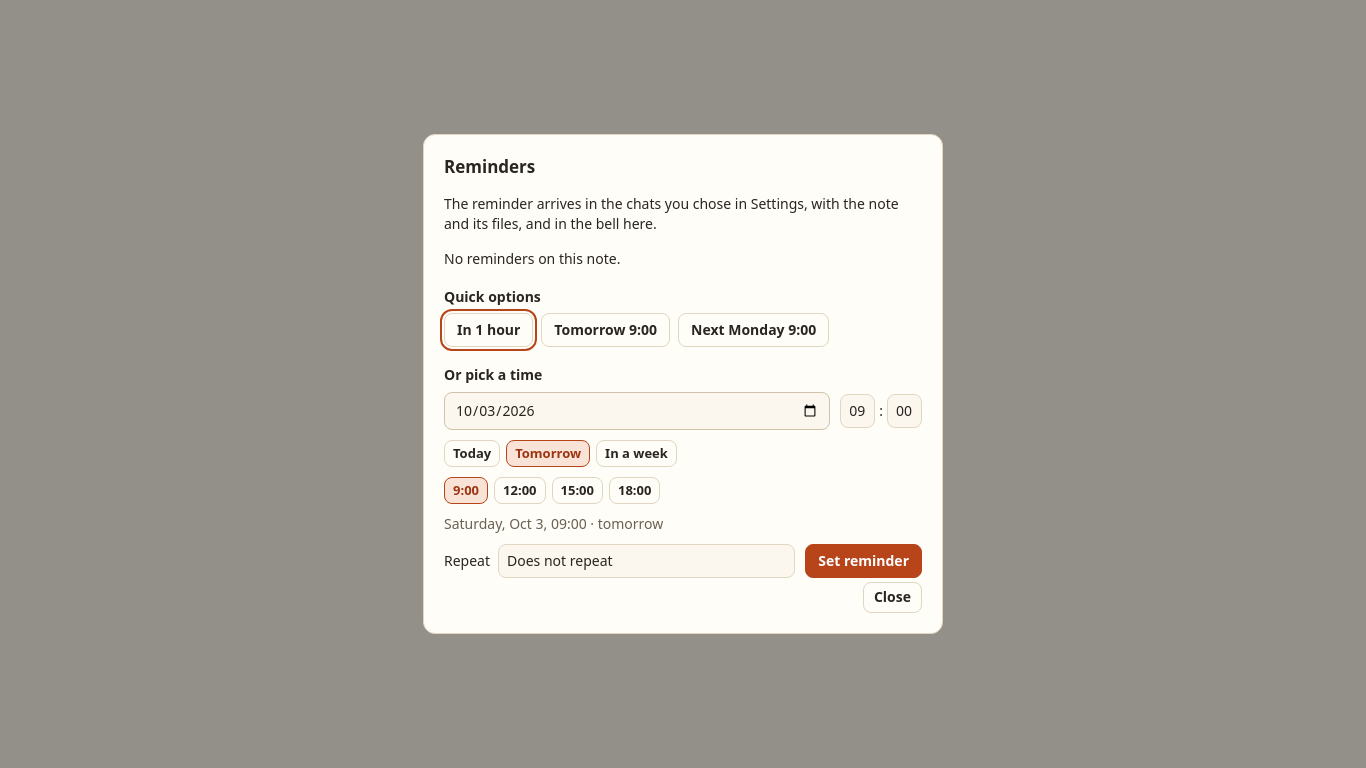
Scenario: ReminderDialog › fills the date and time from the shortcuts and says when the reminder is due
The image size is (1366, 768).
Check: the text "Saturday, Oct 3, 09:00 · tomorrow" is shown, box left=444, top=514, right=663, bottom=533
Step 1. Click the button "In a week" → [636, 454], box left=596, top=440, right=677, bottom=467
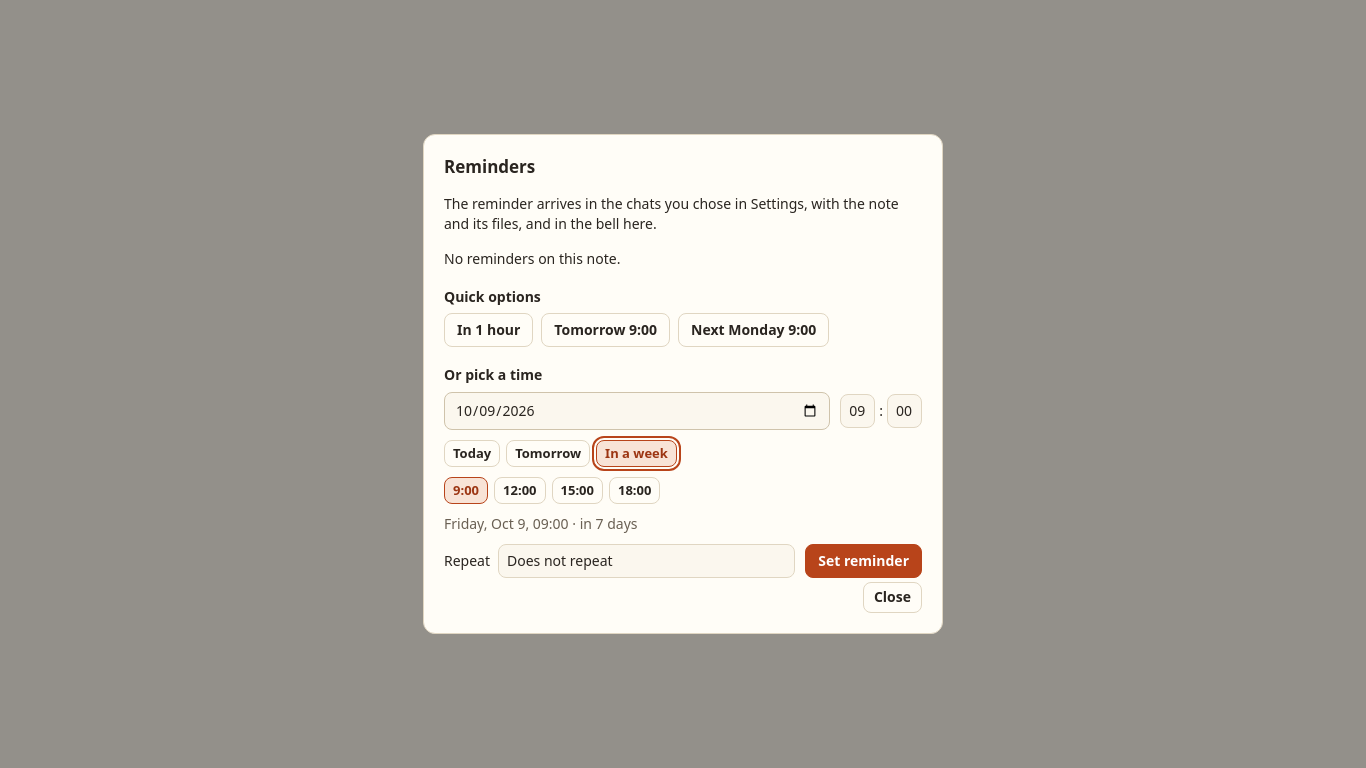
Step 2. Click the button "18:00" → [635, 490], box left=609, top=477, right=660, bottom=504
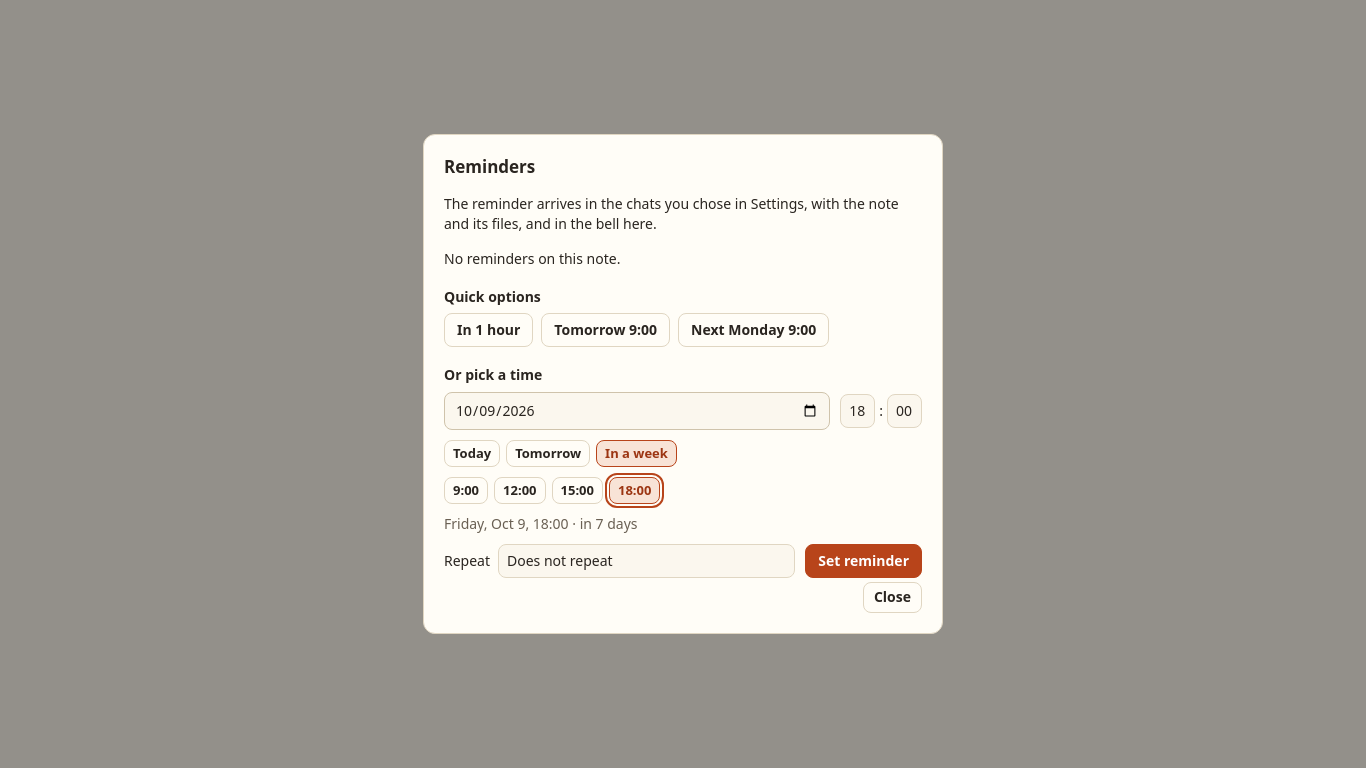
Check: the dropdown named "Minute" shows "00", box left=887, top=394, right=922, bottom=428
Check: the text "Friday, Oct 9, 18:00 · in 7 days" is shown, box left=444, top=514, right=638, bottom=533
Check: the dropdown named "Hour" shows "18", box left=840, top=394, right=875, bottom=428
